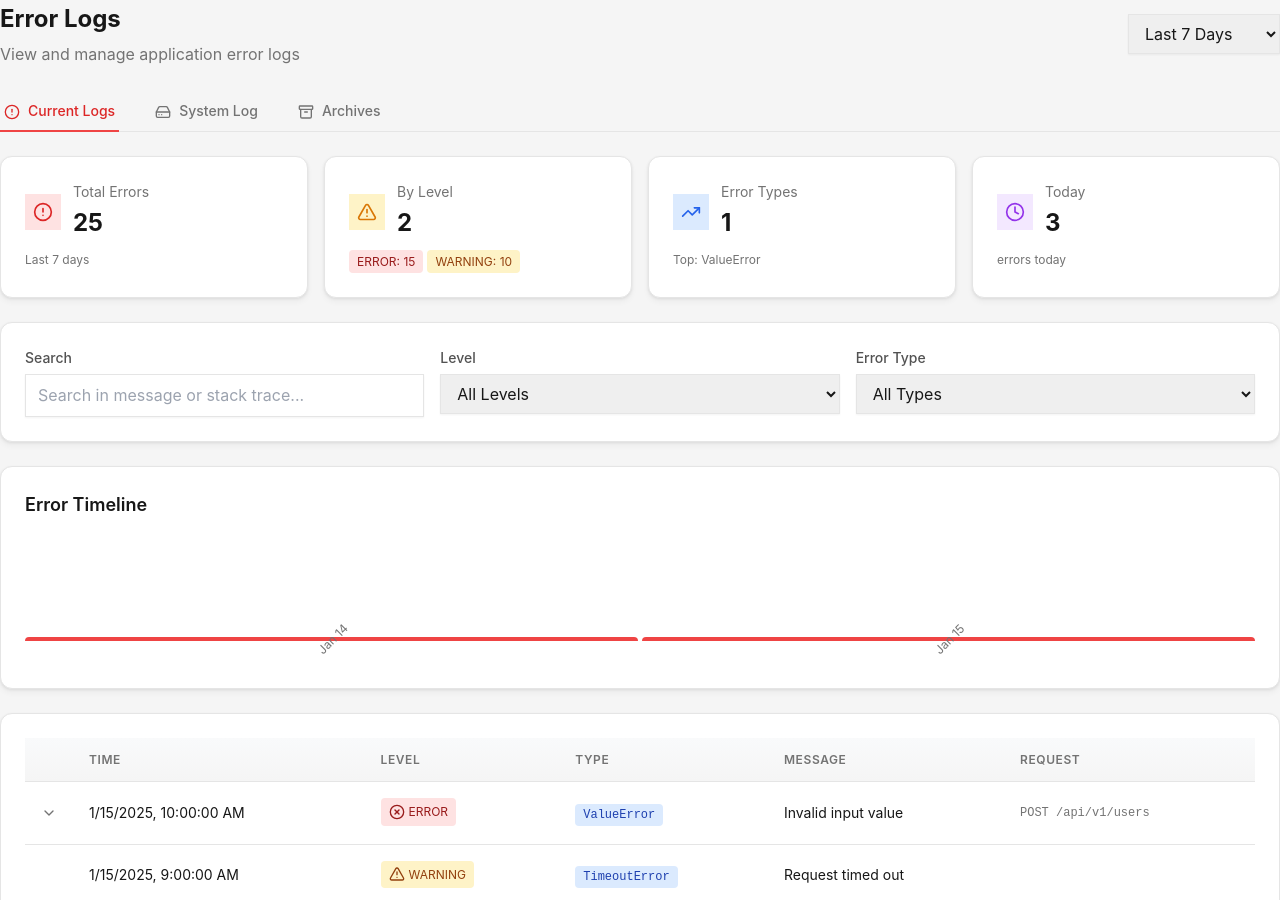
it: ErrorLogsPage › shows archive current file info
Expected: the button "Current Logs" is shown, left=0, top=92, right=119, bottom=132
Click the button "Archives" at point(339, 112), box left=294, top=92, right=385, bottom=132
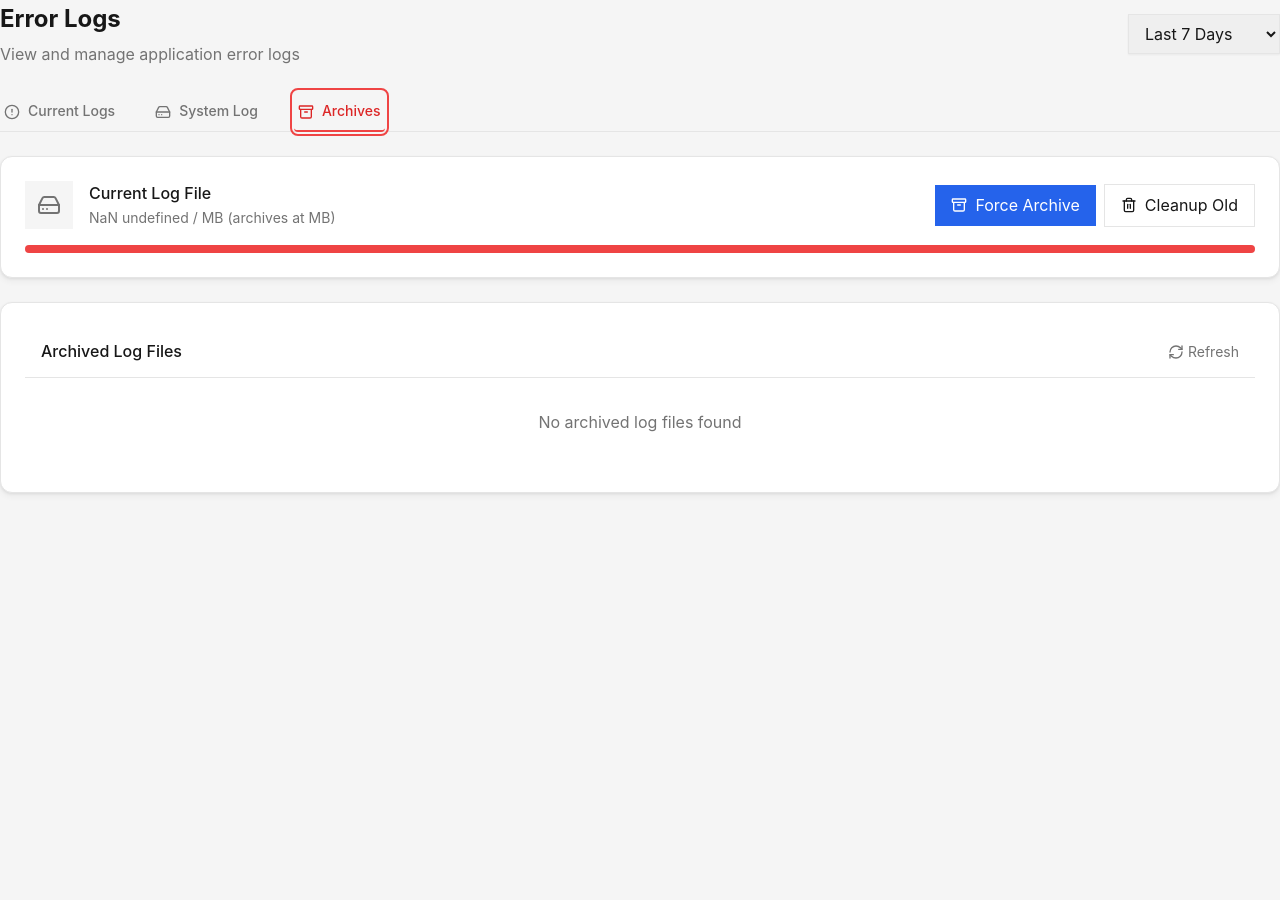
Expected: the text "Current Log File" is shown, left=89, top=183, right=211, bottom=203
